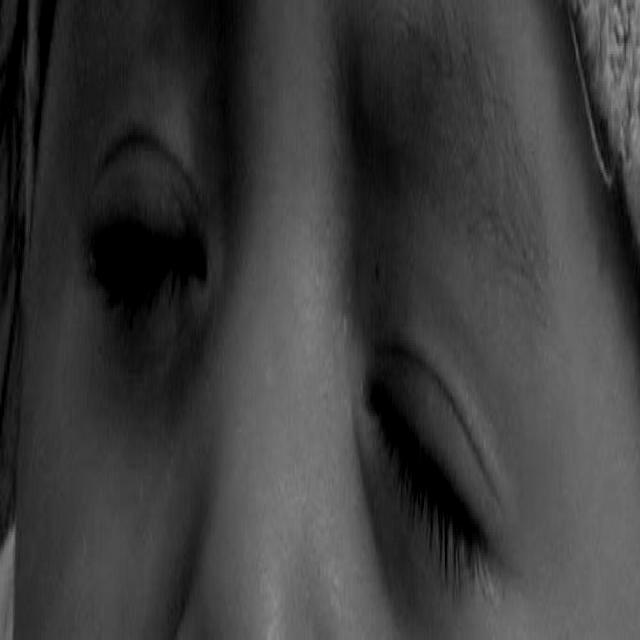real: (70, 75, 528, 638)
